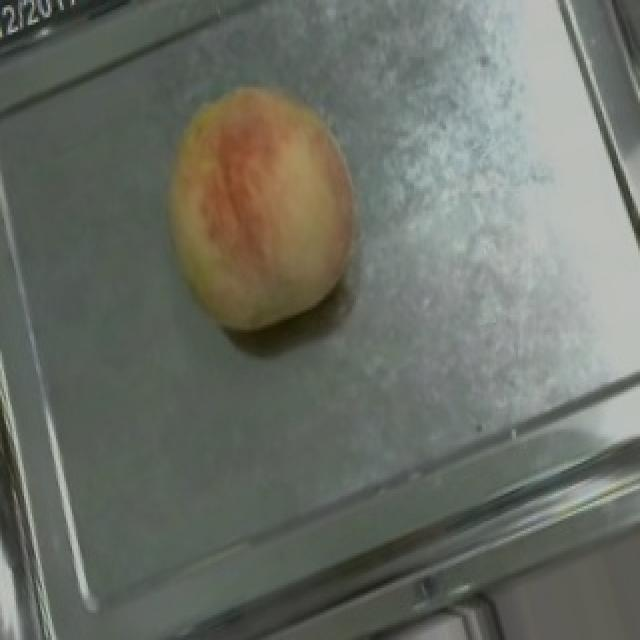Fruit: (124, 49, 400, 364)
